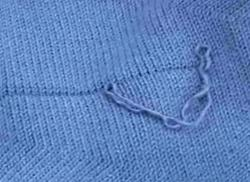snag: (96, 77, 138, 111)
